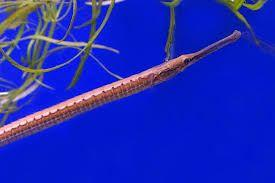Long-Snouted Pipefish: (1, 30, 242, 183)
